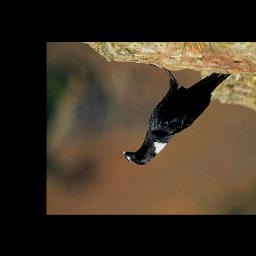Crow: (122, 63, 232, 167)
